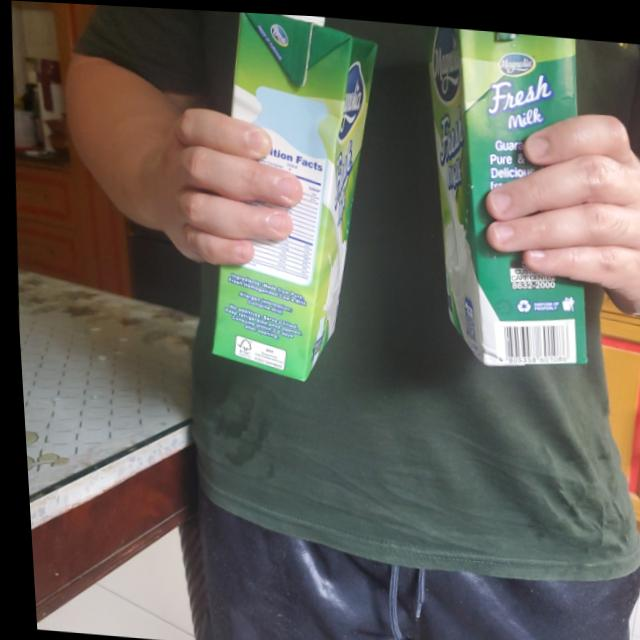milk: (190, 8, 393, 381), (420, 21, 597, 366)
